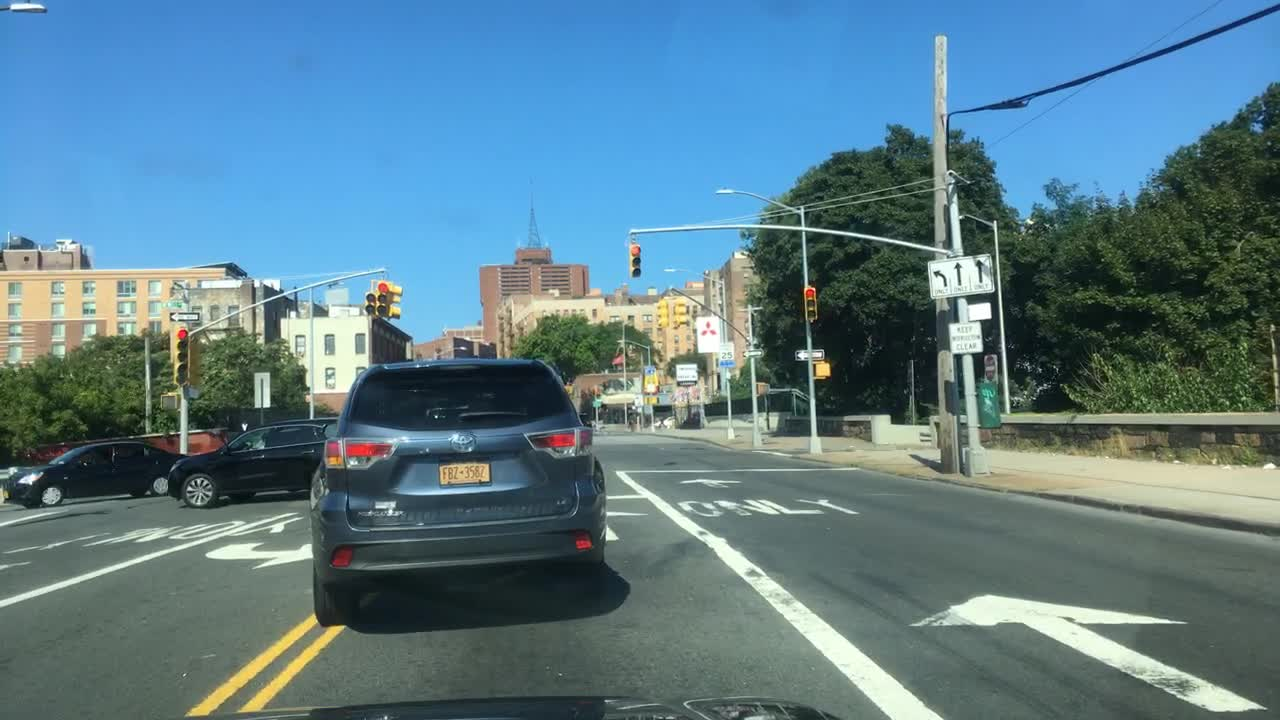car: (306, 357, 608, 629), (165, 416, 327, 510), (5, 439, 188, 509)
traffic light: (169, 327, 188, 385), (374, 280, 389, 318), (802, 287, 818, 322), (390, 283, 402, 318), (628, 244, 639, 277), (161, 392, 180, 410), (674, 300, 686, 328), (656, 297, 667, 327), (364, 292, 374, 319), (814, 362, 830, 378), (755, 382, 770, 394)
traffic sign: (925, 251, 995, 296), (948, 319, 986, 353), (253, 371, 271, 408), (982, 355, 998, 385), (717, 343, 734, 365), (676, 363, 696, 378), (794, 349, 823, 359), (170, 311, 199, 320), (743, 350, 764, 357), (592, 400, 603, 408)
